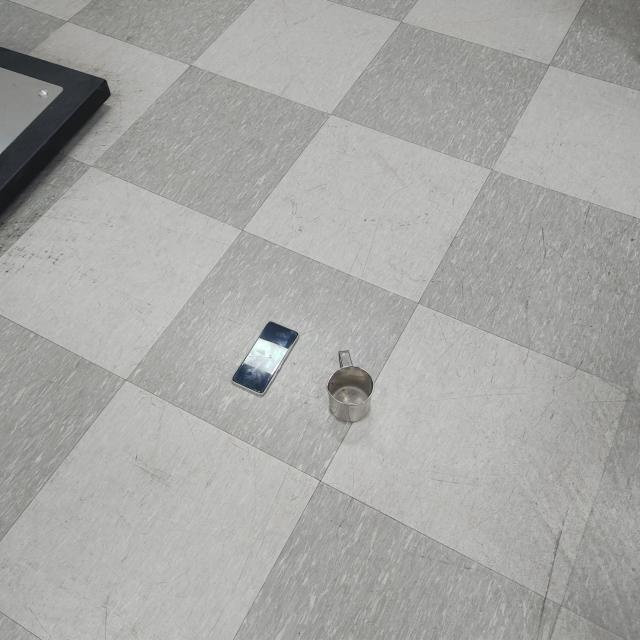cup: (326, 348, 377, 424)
phone: (231, 317, 301, 399)
